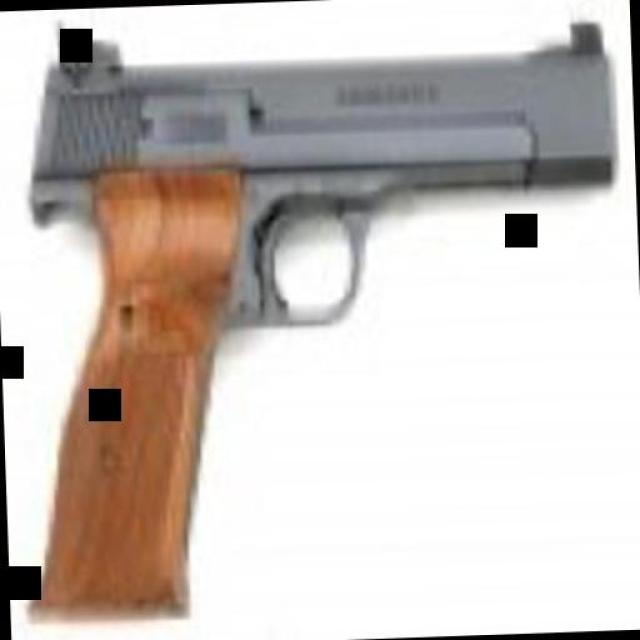gun: (20, 10, 638, 632)
